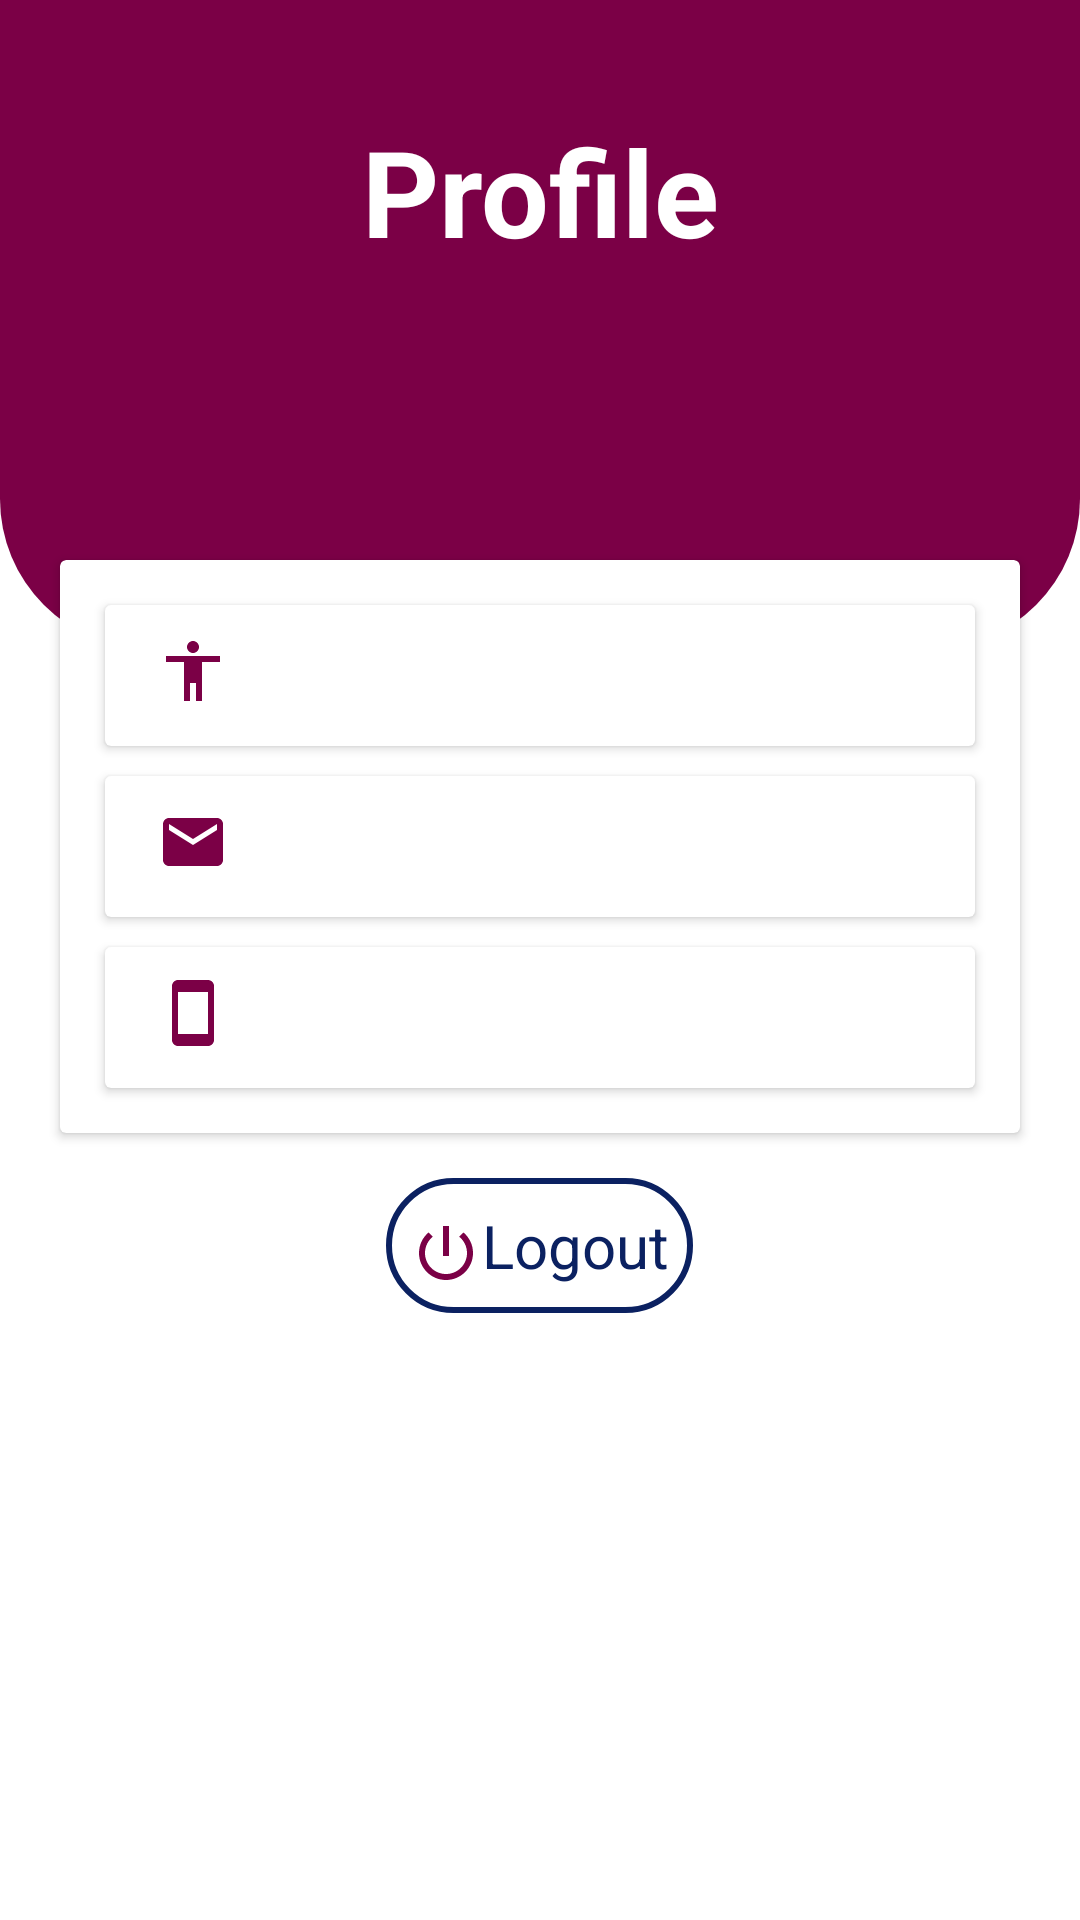

Where icons sit on this 1080w x 1920h app screen, as [x1=x1, y1=y1, x2=x2, y2=y2]:
accessibility: [x1=166, y1=641, x2=220, y2=701]
mail: [x1=163, y1=818, x2=223, y2=866]
power settings: [x1=419, y1=1226, x2=473, y2=1280]
smartphone: [x1=172, y1=980, x2=214, y2=1046]
